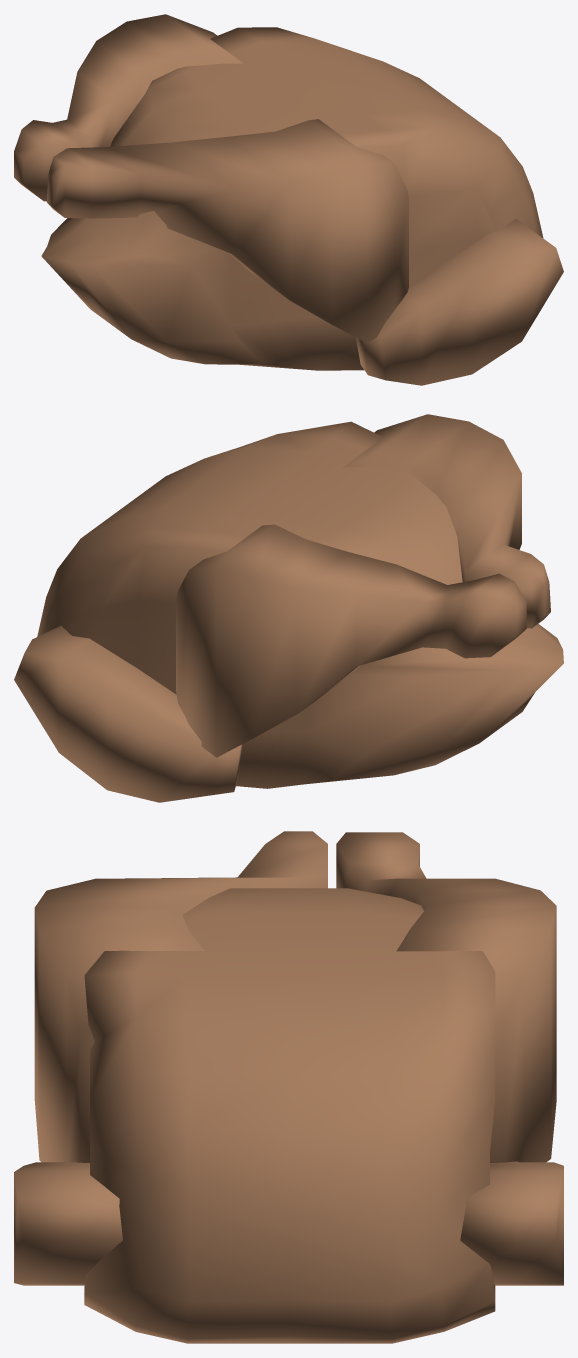
File: kylling.fbx
3 views of the same model, one above another, from view 1: azimuth 30°, elevation 25°; view 2: azimuth 150°, elevation 25°; view 3: azimuth 270°, elevation 25° (orthographic). The views are drawn at different scales.
Parts seen in each view (by area): view 1: Cube, Cube.001, Cube.003, Cube.002; view 2: Cube, Cube.002, Cube.004, Cube.001; view 3: Cube, Cube.002, Cube.001, Cube.003, Cube.004.
Boxes of the visible parts, left/top/right/bottom form: Cube: left=41, top=27, right=543, bottom=370; Cube.001: left=46, top=119, right=408, bottom=343; Cube.003: left=356, top=218, right=563, bottom=385; Cube.002: left=14, top=14, right=243, bottom=201; Cube: left=37, top=421, right=563, bottom=788; Cube.002: left=176, top=524, right=526, bottom=757; Cube.004: left=14, top=626, right=242, bottom=802; Cube.001: left=343, top=414, right=550, bottom=628; Cube: left=84, top=888, right=495, bottom=1343; Cube.002: left=336, top=832, right=556, bottom=1162; Cube.001: left=34, top=831, right=327, bottom=1162; Cube.003: left=14, top=1162, right=122, bottom=1285; Cube.004: left=460, top=1161, right=563, bottom=1285.
Bounding box in the file's own units: 505 × 246 × 409.
